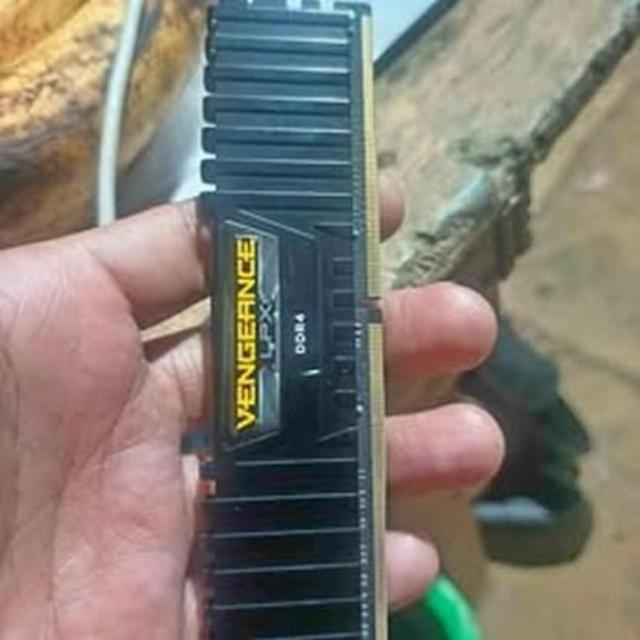RAM: (197, 0, 397, 640)
